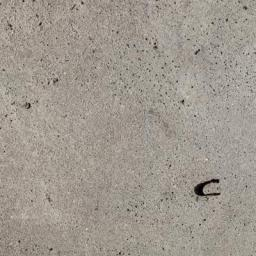FOD: (191, 176, 226, 200)
